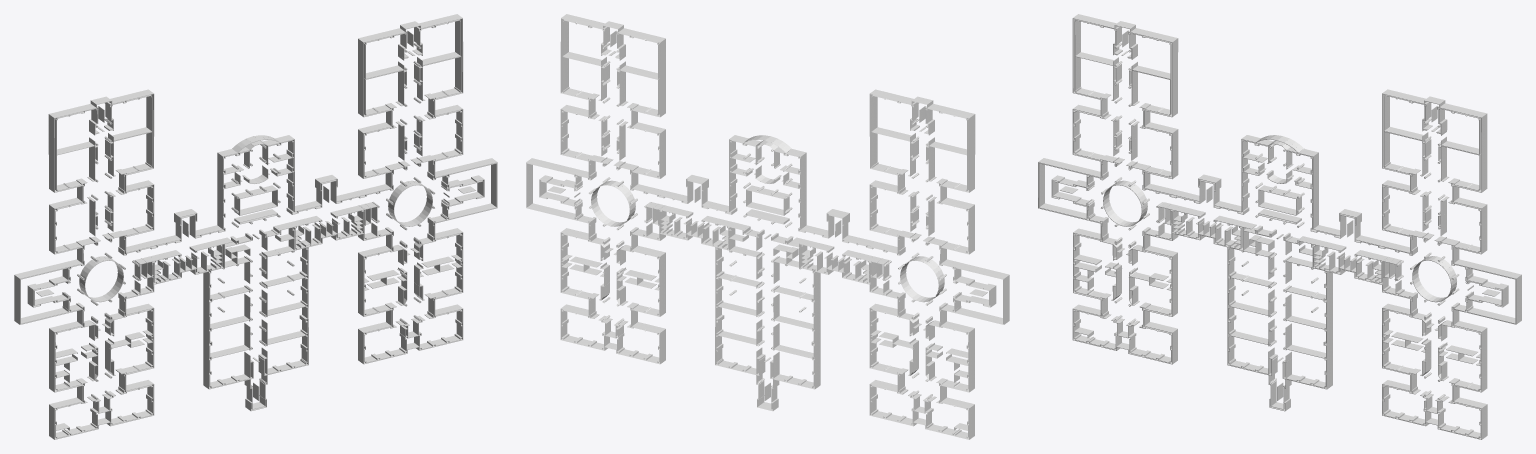
Rendered from wall_1.obj.
3 views of the same model, side by side, from view 1: azimuth 30°, elevation 25°; view 2: azimuth 150°, elevation 25°; view 3: azimuth 330°, elevation 25° (orthographic).
Parts seen in each view (by area): view 1: walls; view 2: walls; view 3: walls.
Boxes of the visible parts, x1,y1,x2,y2 form: walls: (14,14,497,439); walls: (526,14,1009,439); walls: (1038,14,1521,439).
Size of the model in its own units: 121 by 83.07 by 2.5.
